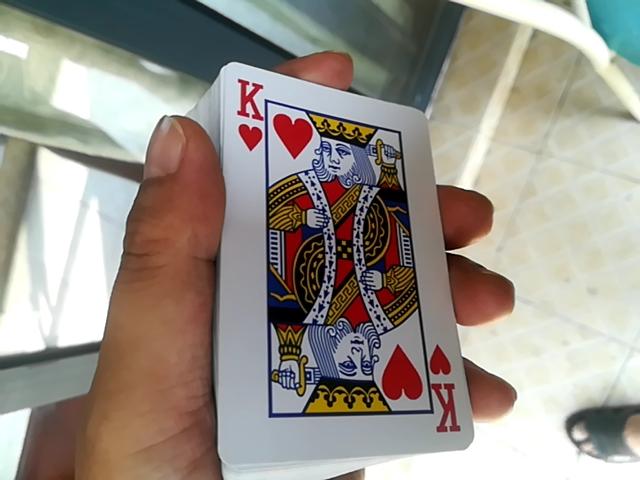hx k: (210, 48, 458, 468)
